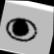correct: (0, 12, 45, 47)
